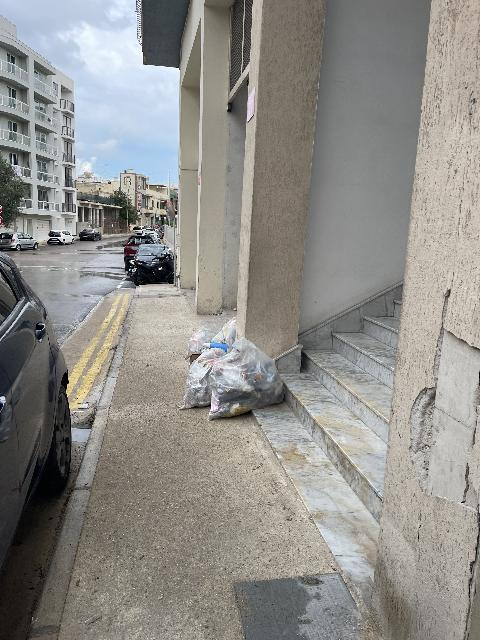Recyclable -Grey-: (209, 338, 283, 418), (181, 343, 226, 409), (213, 318, 236, 351), (188, 329, 214, 355)
